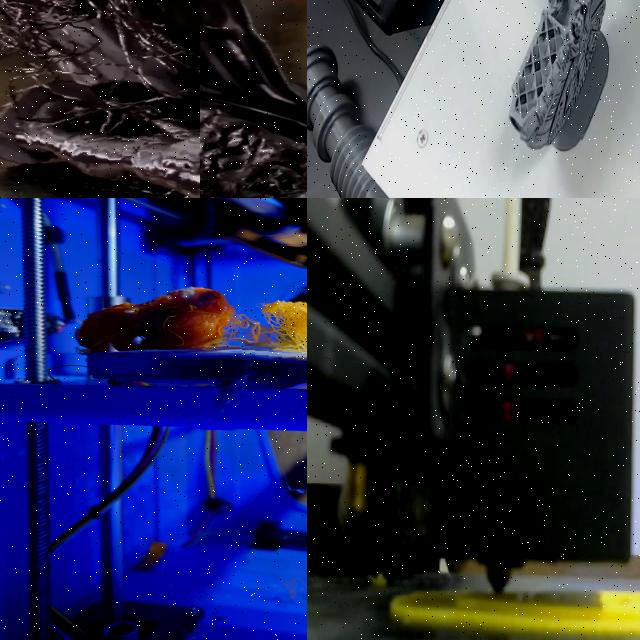spaghetti: (0, 0, 200, 198), (230, 283, 307, 366)
